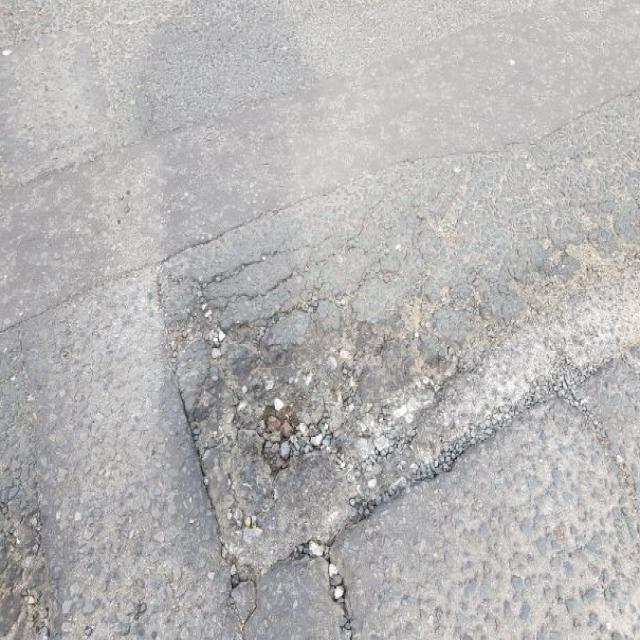Pothole: (325, 219, 636, 532), (186, 251, 423, 574)
